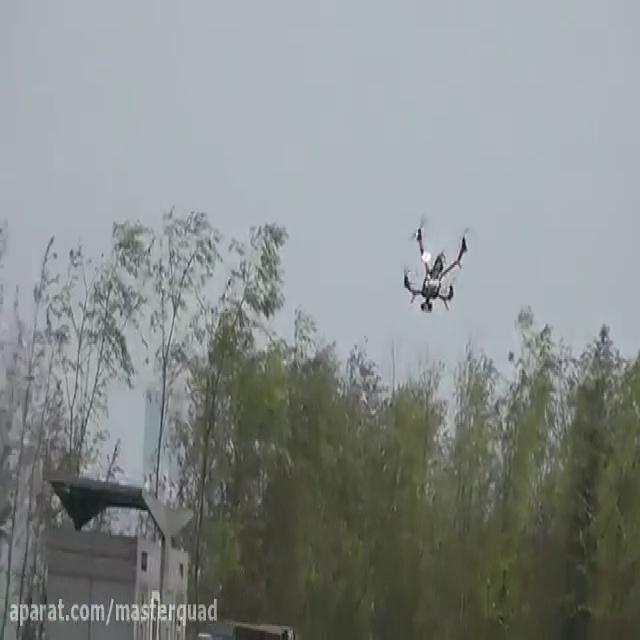drone: (394, 210, 479, 318)
